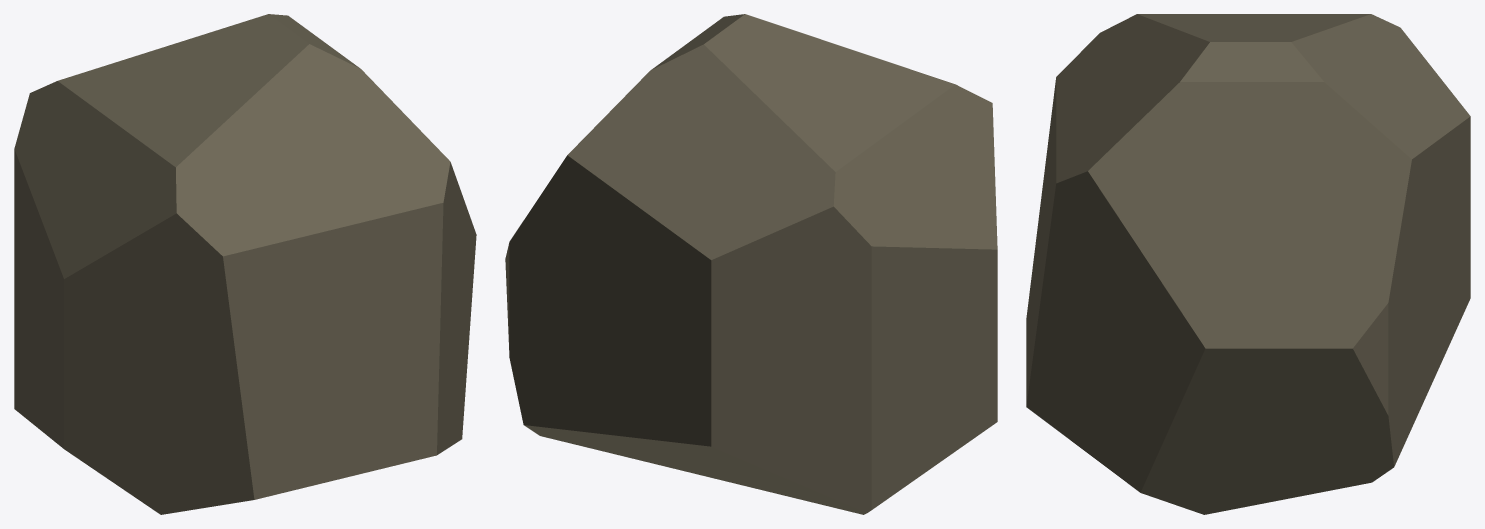
The model's file is Rock_11.fbx.
3 views of the same model, side by side, from view 1: azimuth 30°, elevation 25°; view 2: azimuth 150°, elevation 25°; view 3: azimuth 270°, elevation 25° (orthographic). The views are drawn at different scales.
Visible parts, largest first — view 1: Rock_11_LOD0; view 2: Rock_11_LOD0; view 3: Rock_11_LOD0.
Boxes of the visible parts, bbox=[...] form: Rock_11_LOD0: bbox=[14, 14, 476, 514]; Rock_11_LOD0: bbox=[505, 14, 997, 514]; Rock_11_LOD0: bbox=[1026, 14, 1470, 514].
Size of what is drawn, in the model's own units: 0.972 by 0.9559 by 0.9173.
